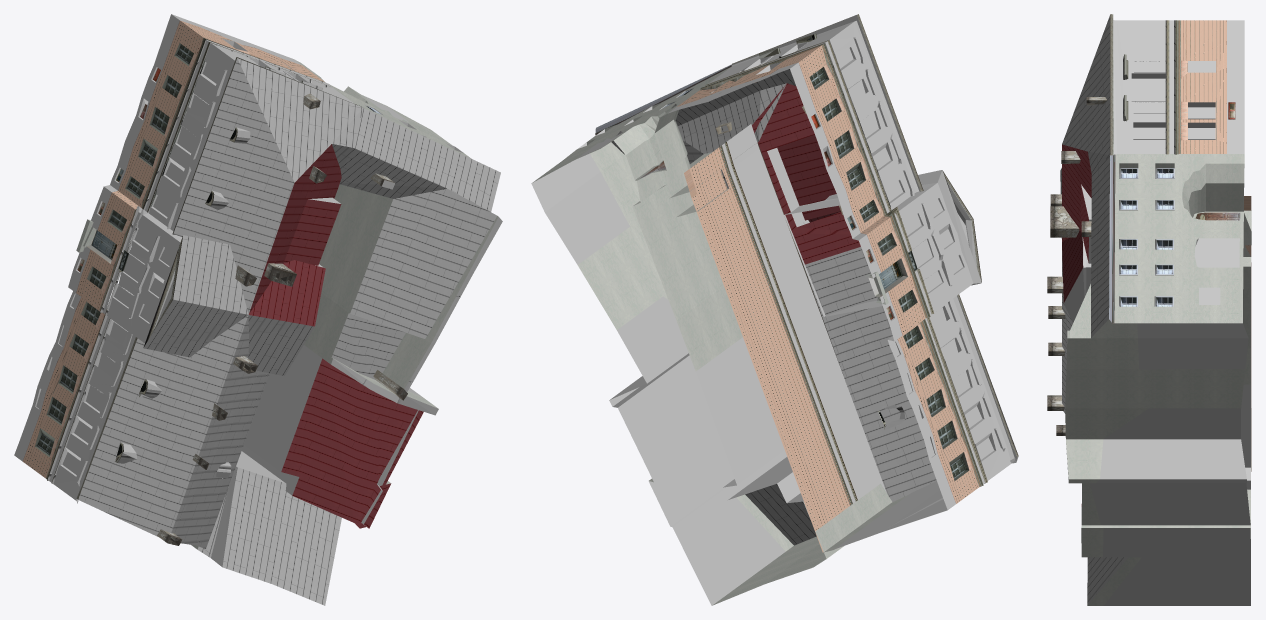
File: Lai_34-origo.obj
3 renders of one model, left to right at view 1: azimuth 30°, elevation 25°; view 2: azimuth 150°, elevation 25°; view 3: azimuth 270°, elevation 25°, orthographic.
Visible parts, largest first — view 1: Lai_34; view 2: Lai_34; view 3: Lai_34.
Part boxes in pixels (x1,y1,x2,y2): Lai_34: [14, 14, 502, 605]; Lai_34: [531, 14, 1018, 605]; Lai_34: [1047, 14, 1251, 605].
Size of the model in its own units: 38.44 by 48.5 by 16.18.
